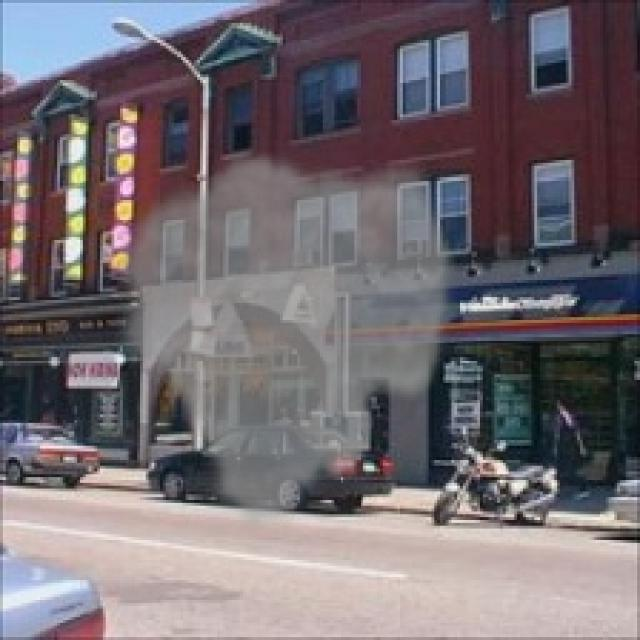smoke: (109, 149, 460, 537)
